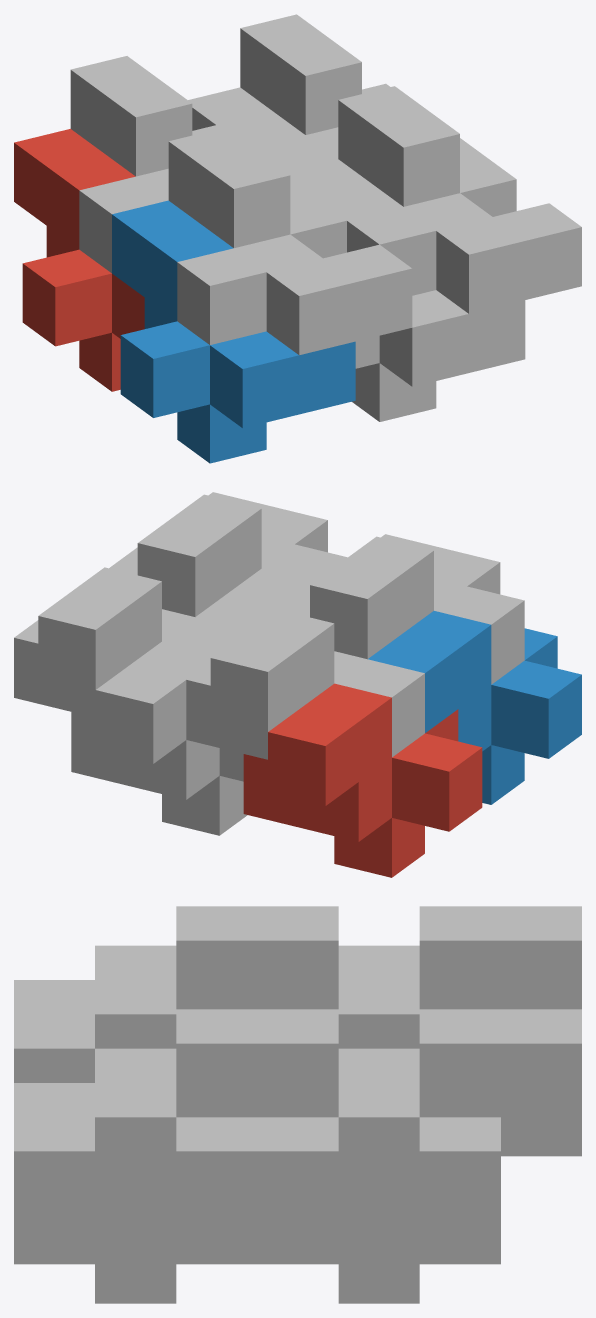
The model's file is tiling.obj.
3 views of the same model, one above another, from view 1: azimuth 30°, elevation 25°; view 2: azimuth 150°, elevation 25°; view 3: azimuth 270°, elevation 25° (orthographic). The views are drawn at different scales.
Parts seen in each view (by area): view 1: copy_1_domain_4, copy_1_domain_8, copy_1_domain_2, copy_1_domain_1, copy_1_domain_6, copy_1_domain_3, copy_1_domain_7, copy_1_domain_5; view 2: copy_1_domain_1, copy_1_domain_2, copy_1_domain_5, copy_1_domain_3, copy_1_domain_4, copy_1_domain_7, copy_1_domain_8, copy_1_domain_6; view 3: copy_1_domain_8, copy_1_domain_7, copy_1_domain_4, copy_1_domain_3, copy_1_domain_5, copy_1_domain_6.
Boxes of the visible parts, x1,y1,x2,y2 form: copy_1_domain_4: (168,127,412,355); copy_1_domain_8: (338,86,581,313); copy_1_domain_2: (112,200,355,463); copy_1_domain_1: (14,129,144,391); copy_1_domain_6: (286,159,525,421); copy_1_domain_3: (70,56,313,272); copy_1_domain_7: (240,14,483,171); copy_1_domain_5: (188,87,305,147); copy_1_domain_1: (243,683,482,877); copy_1_domain_2: (368,611,581,804); copy_1_domain_5: (71,641,247,835); copy_1_domain_3: (186,607,424,759); copy_1_domain_4: (286,534,524,684); copy_1_domain_7: (14,565,247,717); copy_1_domain_8: (114,492,347,616); copy_1_domain_6: (195,568,314,629); copy_1_domain_8: (14,1009,338,1264); copy_1_domain_7: (257,1009,581,1264); copy_1_domain_4: (14,906,338,1082); copy_1_domain_3: (338,906,581,1048); copy_1_domain_5: (257,1117,581,1303); copy_1_domain_6: (14,1225,257,1303).
Size of the model in its own units: 7 by 4 by 7.
